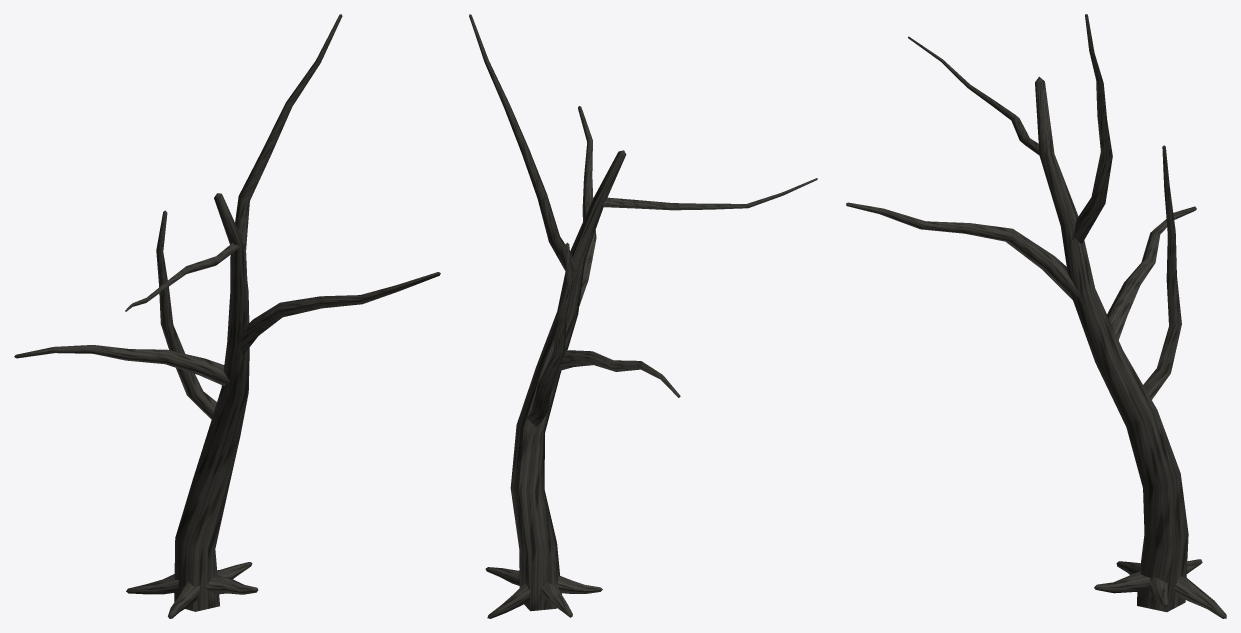
File: GnarledDeadTree_2_LOD2.gltf
The picture shows the model from 3 angles, left to right: view 1: azimuth 30°, elevation 25°; view 2: azimuth 150°, elevation 25°; view 3: azimuth 270°, elevation 25°; orthographic projection. The views are drawn at different scales.
Parts seen in each view (by area): view 1: GnarledDeadTree_2_LOD2; view 2: GnarledDeadTree_2_LOD2; view 3: GnarledDeadTree_2_LOD2.
Part boxes in pixels (x1,y1,x2,y2): GnarledDeadTree_2_LOD2: (14, 14, 440, 618); GnarledDeadTree_2_LOD2: (469, 14, 817, 618); GnarledDeadTree_2_LOD2: (846, 14, 1226, 618).
Size of the model in its own units: 6.75 by 12.8 by 6.79.
1 material, 1 textured.
